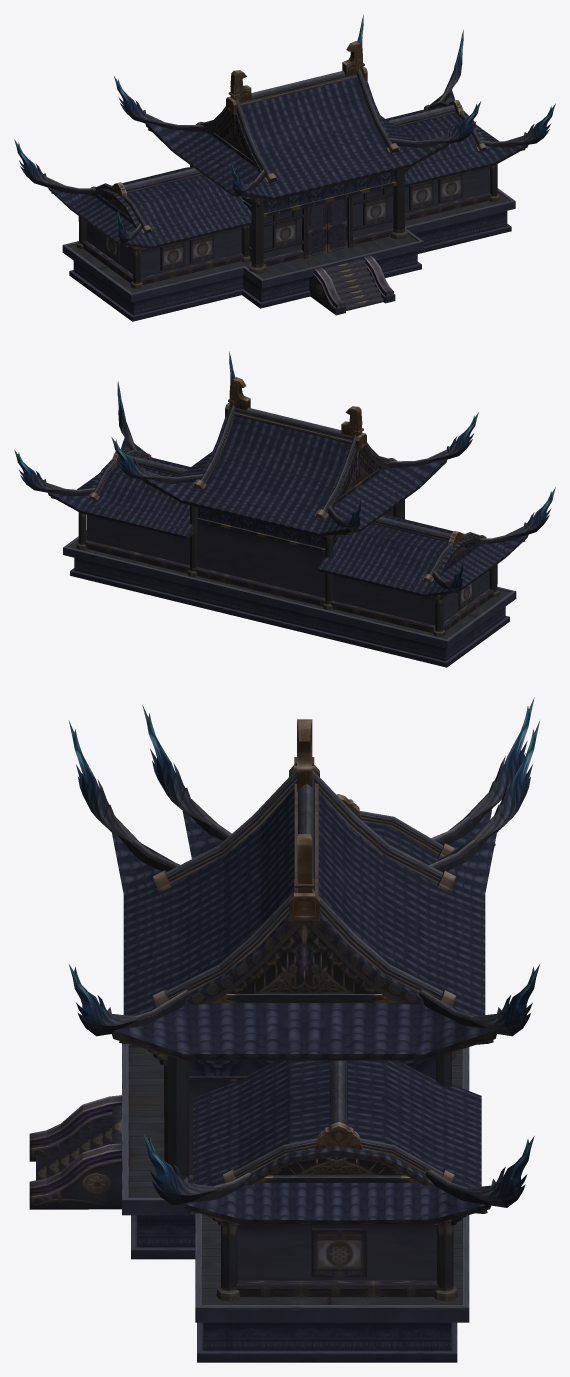
Rendered from 1005_Building_16.FBX.
3 renders of one model, top to bottom at view 1: azimuth 30°, elevation 25°; view 2: azimuth 150°, elevation 25°; view 3: azimuth 270°, elevation 25°, orthographic. The views are drawn at different scales.
Parts seen in each view (by area): view 1: 1005_Building_16; view 2: 1005_Building_16; view 3: 1005_Building_16.
Boxes of the visible parts, box(x1,y1,x2,y2) form: 1005_Building_16: box(14, 14, 555, 321); 1005_Building_16: box(14, 351, 555, 667); 1005_Building_16: box(29, 697, 539, 1362).
Bounding box in the file's own units: 4301 × 1835 × 2115.
